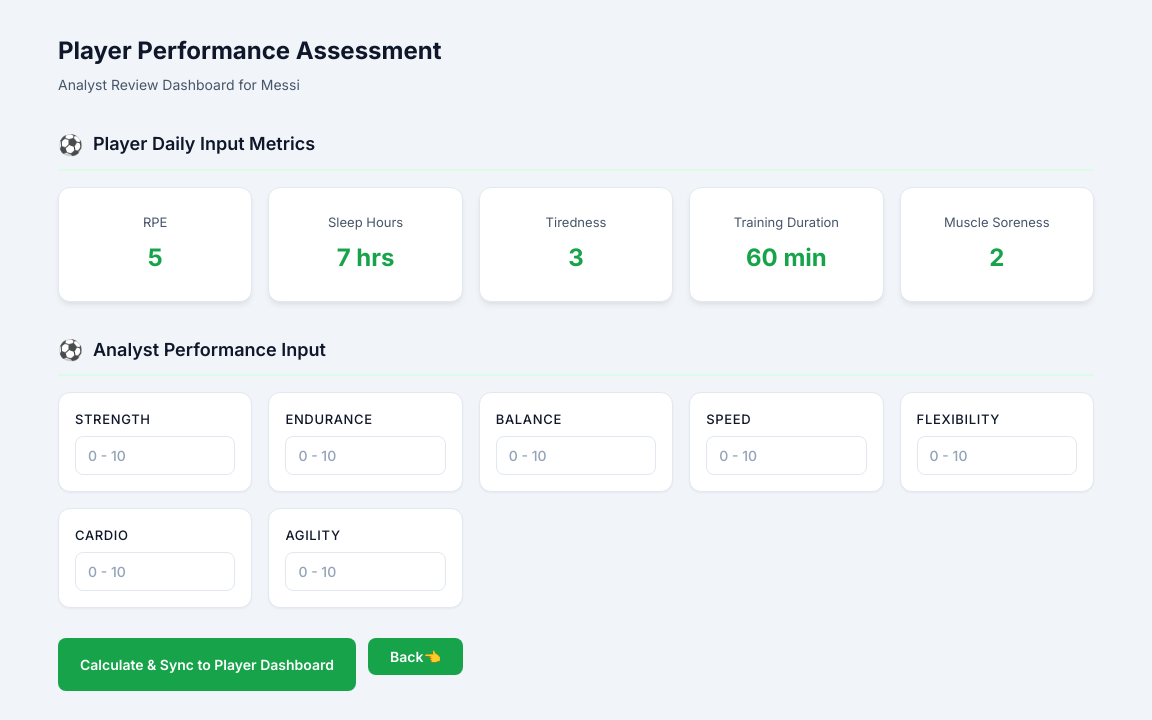
UpdateAssessment Component › handles successful sync
Type "8" into the number field with placeholder "0 - 10" below "Strength" at (155, 455), box [75,436,235,475]
Type "8" into the number field with placeholder "0 - 10" below "Endurance" at (366, 455), box [285,436,446,475]
Type "8" into the number field with placeholder "0 - 10" below "Balance" at (576, 455), box [496,436,656,475]
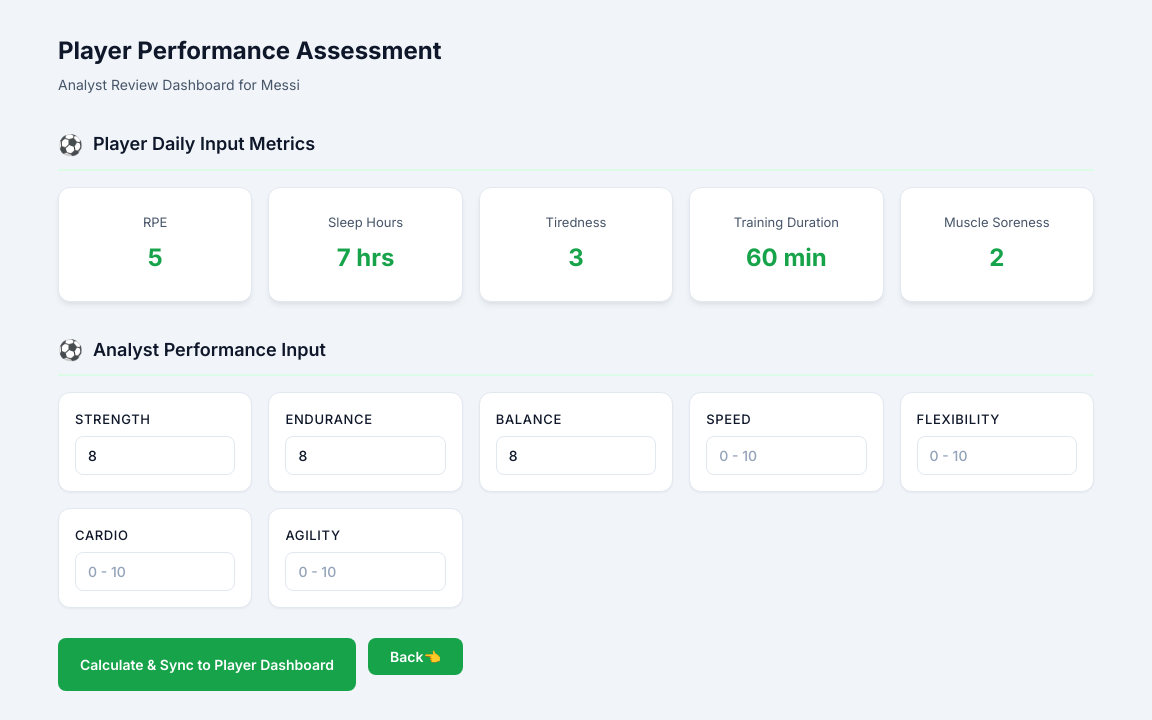
Type "8" into the number field with placeholder "0 - 10" below "Speed" at (786, 455), box [706,436,867,475]
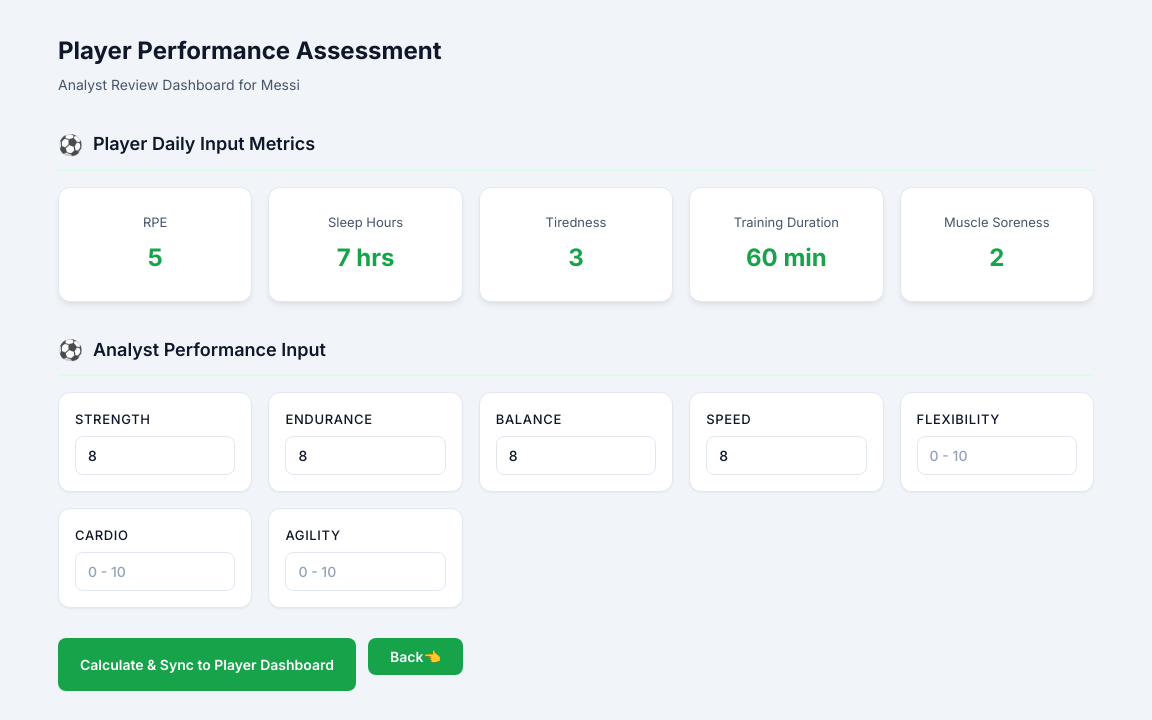
Type "8" into the number field with placeholder "0 - 10" below "Flexibility" at (997, 455), box [917,436,1077,475]
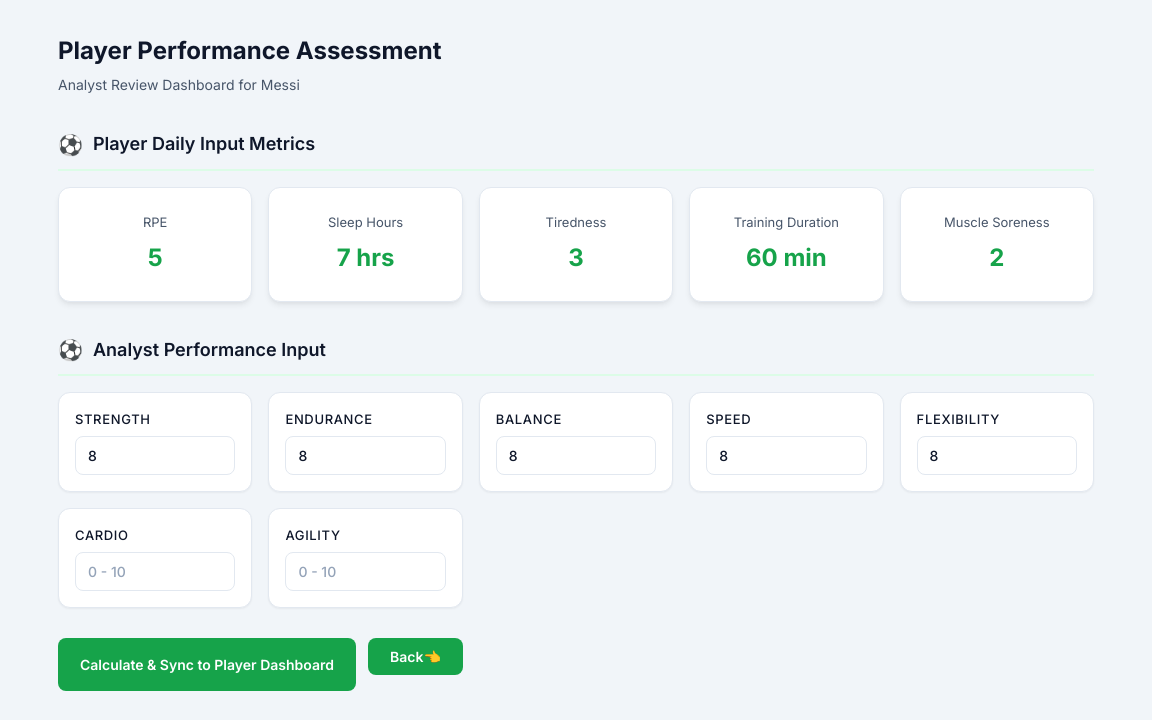
Type "8" into the number field with placeholder "0 - 10" below "Cardio" at (155, 571), box [75,552,235,591]
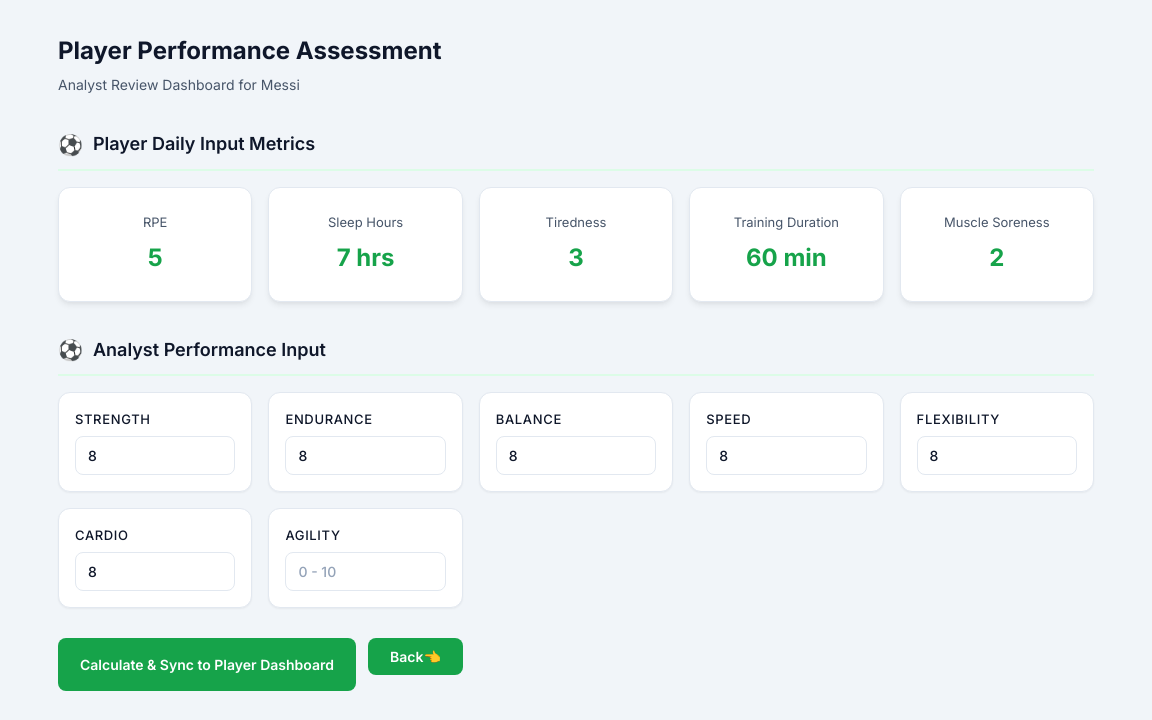
Type "8" into the number field with placeholder "0 - 10" at (366, 571), box [285,552,446,591]
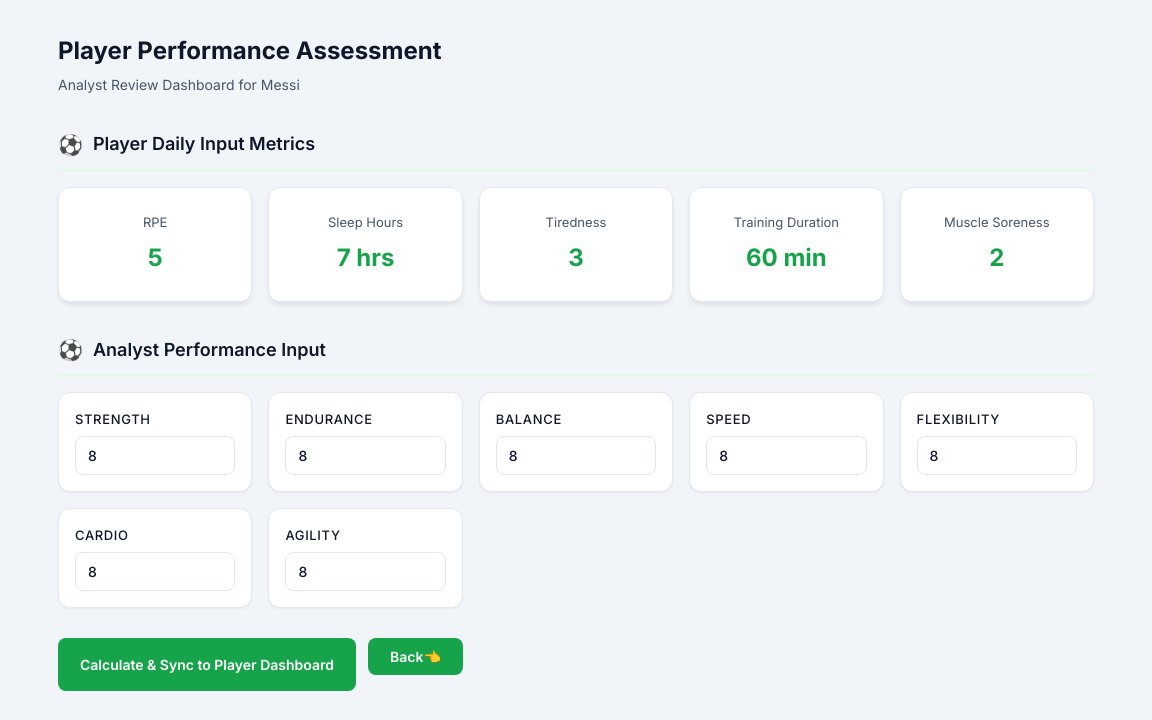
Click the button "Calculate & Sync to Player Dashboard" at (207, 664), box [58,638,356,691]
(page scrolled)
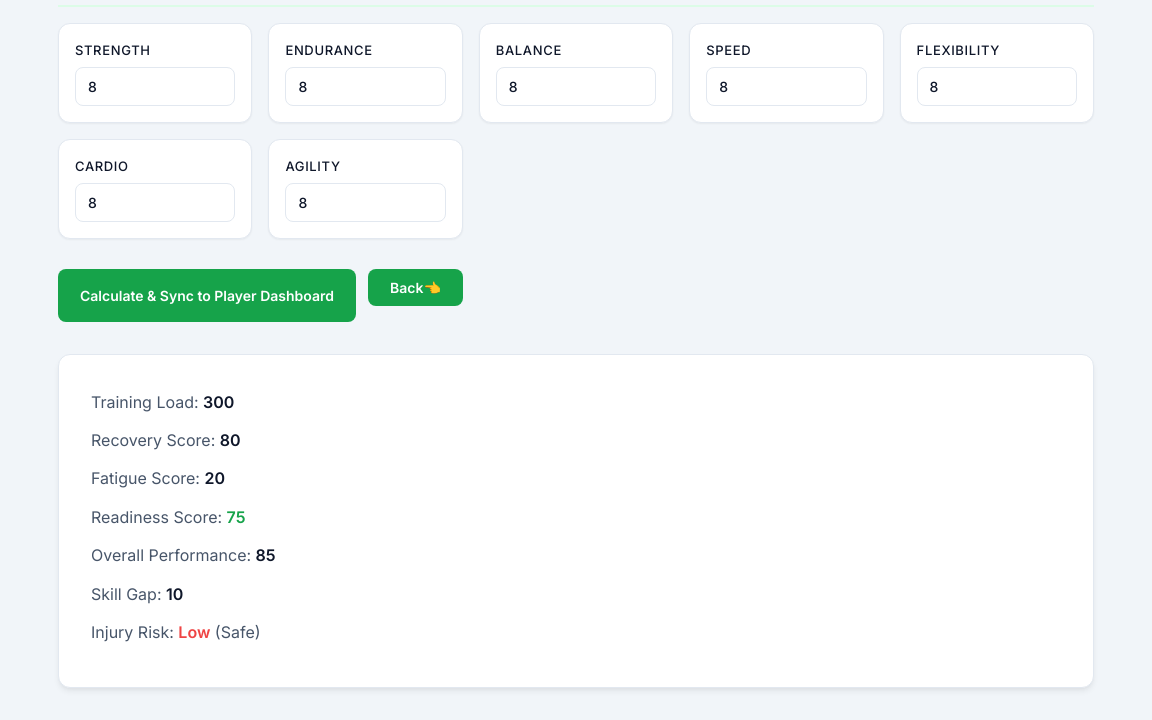
Expected: the text "Training Load: 300" is shown, [91,392,234,412]
